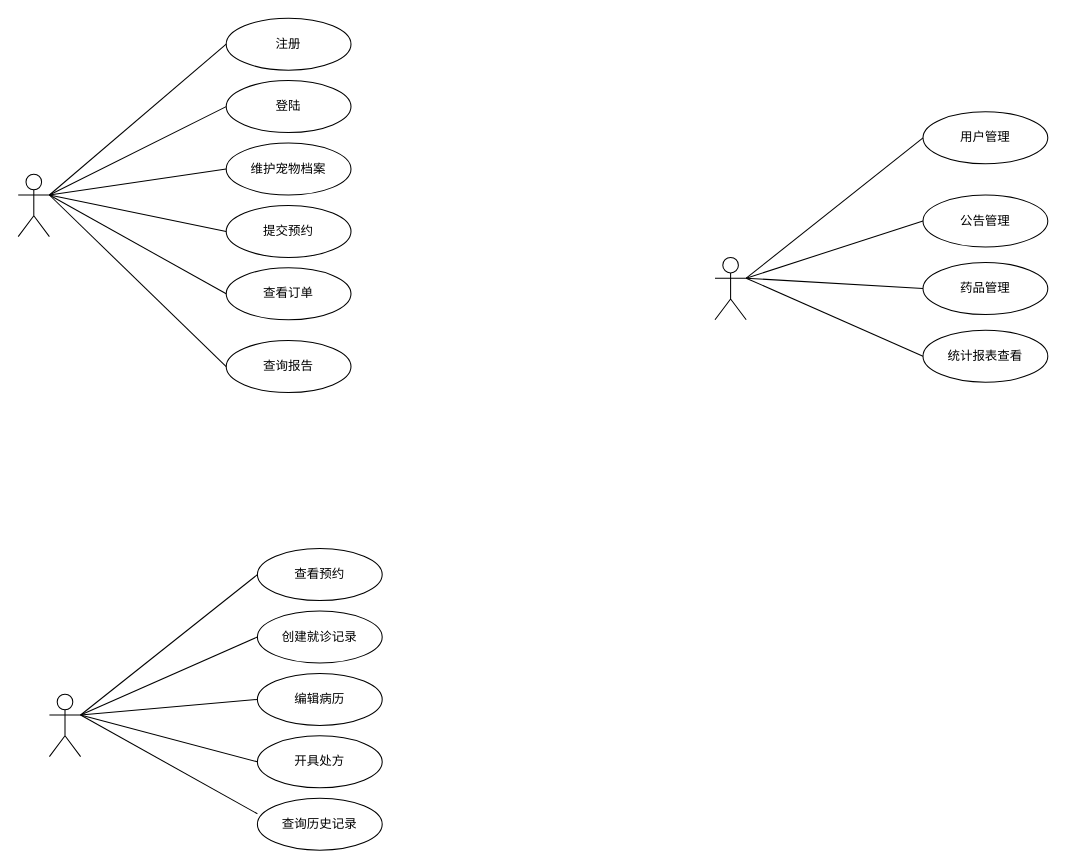
The diagram is 1066 pixels wide and 868 high, and some of its shapes have lost their labels. The shapes that lost their labels are listed below. From the top down, each one's centre as x and y in pixels, then its label:
At point (33, 205): "用户".
At point (730, 288): "管理员".
At point (64, 725): "医生".
